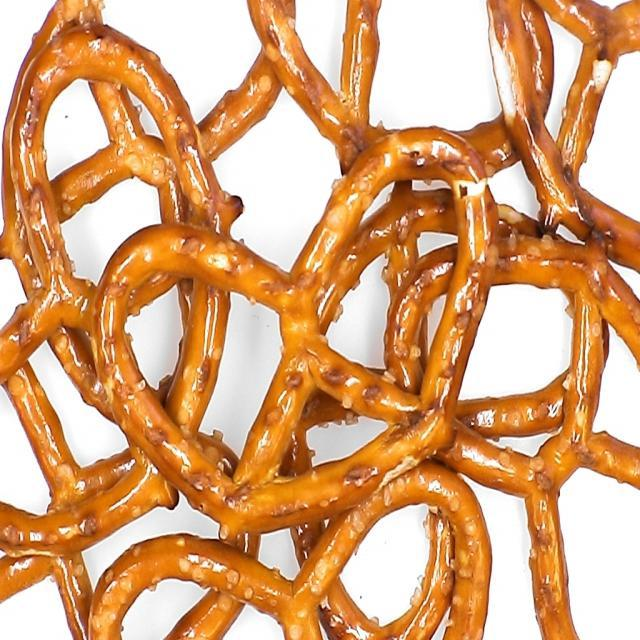Salatini: (1, 1, 639, 639)
